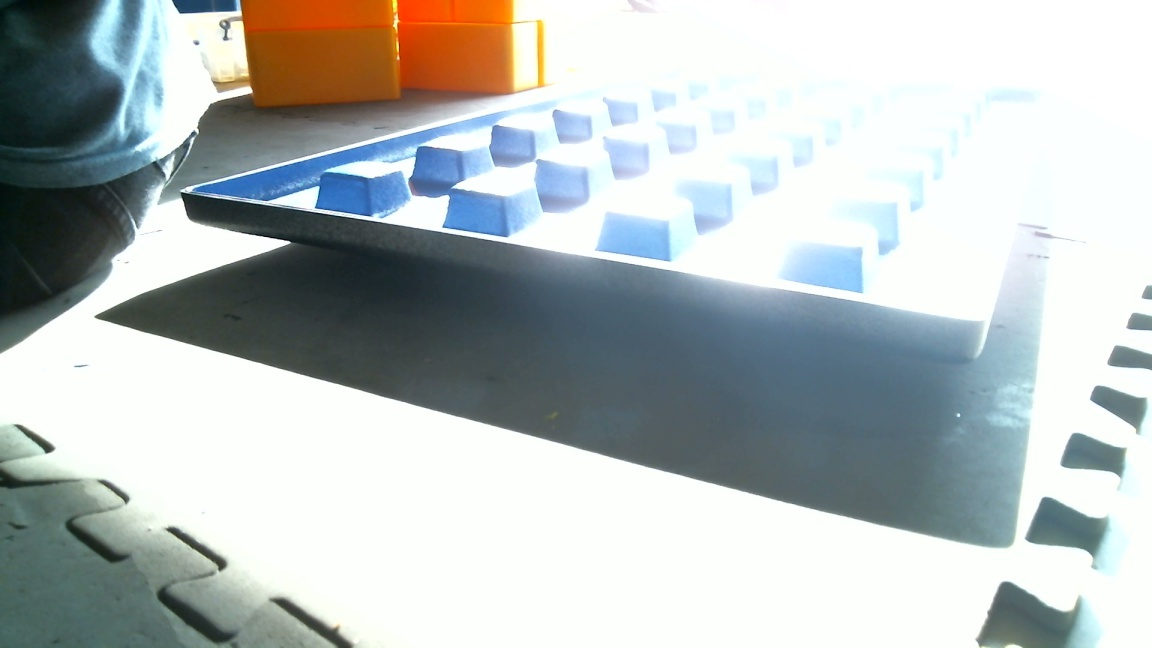blue_foundation: (181, 32, 975, 391)
